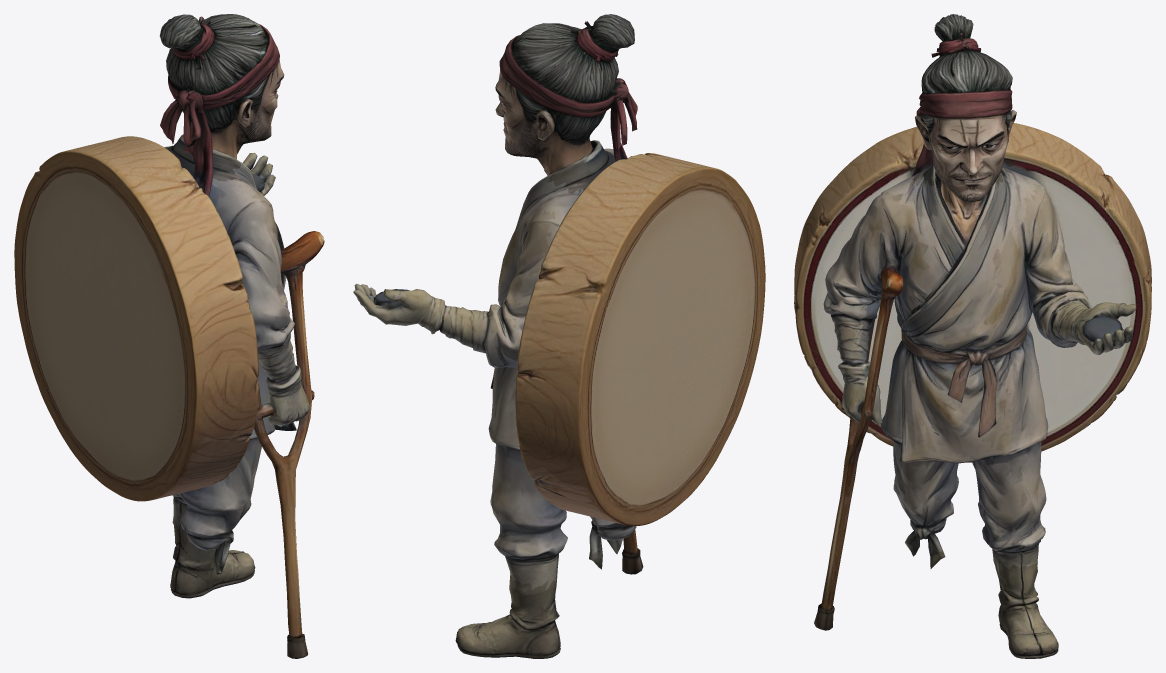
File: p_b1p_zhaoshoutian.glb
3 views of the same model, side by side, from view 1: azimuth 30°, elevation 25°; view 2: azimuth 150°, elevation 25°; view 3: azimuth 270°, elevation 25° (orthographic). The views are drawn at different scales.
Visible parts, largest first — view 1: tripo_node_9e747752-697d-4339-90a8-0226433e5ce5; view 2: tripo_node_9e747752-697d-4339-90a8-0226433e5ce5; view 3: tripo_node_9e747752-697d-4339-90a8-0226433e5ce5.
Boxes of the visible parts, x1,y1,x2,y2 form: tripo_node_9e747752-697d-4339-90a8-0226433e5ce5: [14, 14, 324, 658]; tripo_node_9e747752-697d-4339-90a8-0226433e5ce5: [353, 14, 765, 658]; tripo_node_9e747752-697d-4339-90a8-0226433e5ce5: [794, 14, 1151, 658].
Bounding box in the file's own units: 0.4007 × 0.9813 × 0.535.
1 material, 1 textured.
